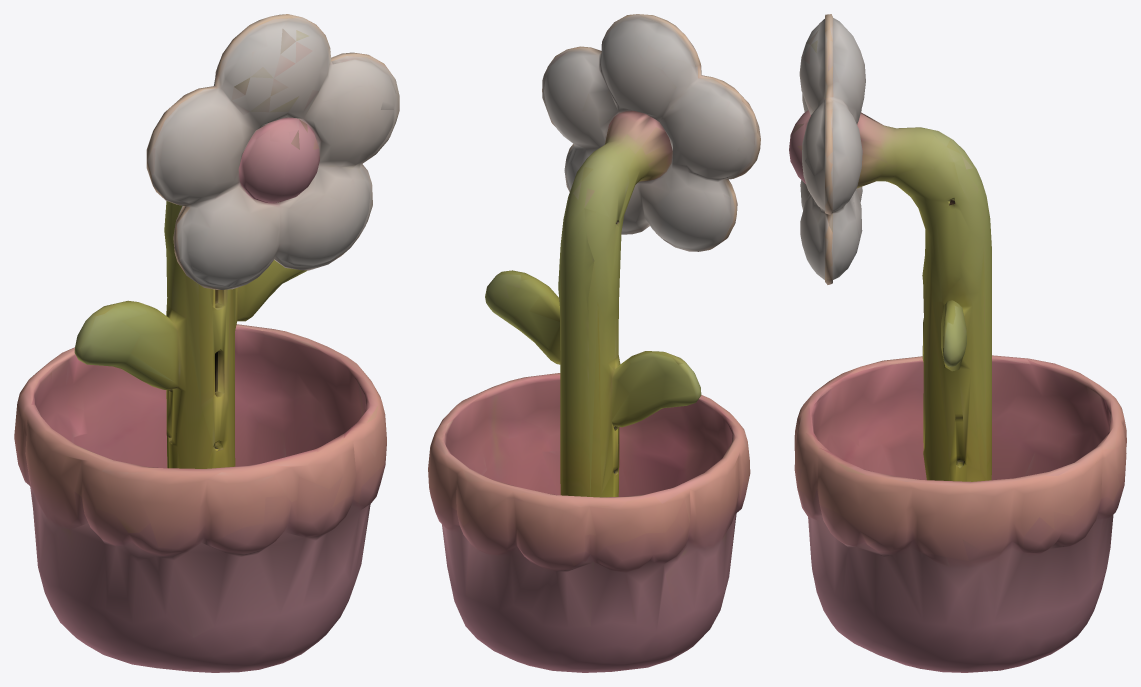
File: 花朵加湿器-Small.fbx
3 renders of one model, left to right at view 1: azimuth 30°, elevation 25°; view 2: azimuth 150°, elevation 25°; view 3: azimuth 270°, elevation 25°, orthographic. The views are drawn at different scales.
Visible parts, largest first — view 1: texture_pbr_v128; view 2: texture_pbr_v128; view 3: texture_pbr_v128.
Part boxes in pixels (<box>): texture_pbr_v128: <box>14,14,399,672</box>; texture_pbr_v128: <box>428,14,760,672</box>; texture_pbr_v128: <box>789,14,1126,672</box>.
Size of the model in its own units: 55.48 by 111 by 56.07.
Materials: 1 (1 with a texture image).
